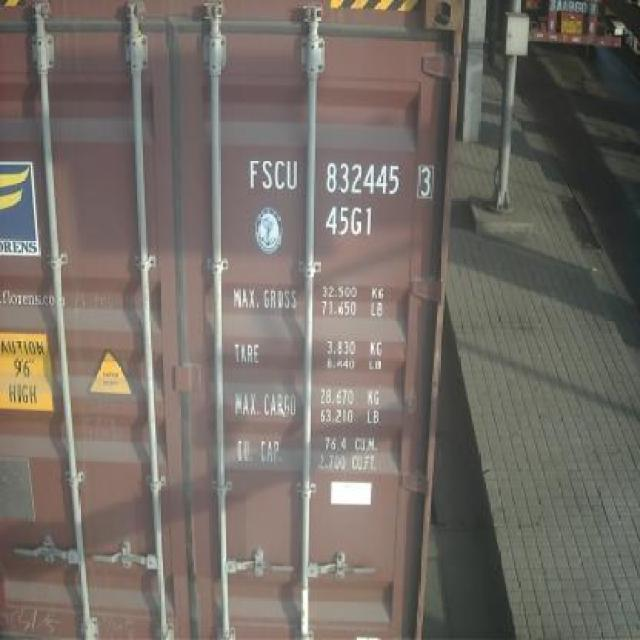ISO: (324, 204, 378, 234)
container_number: (254, 160, 442, 198)
